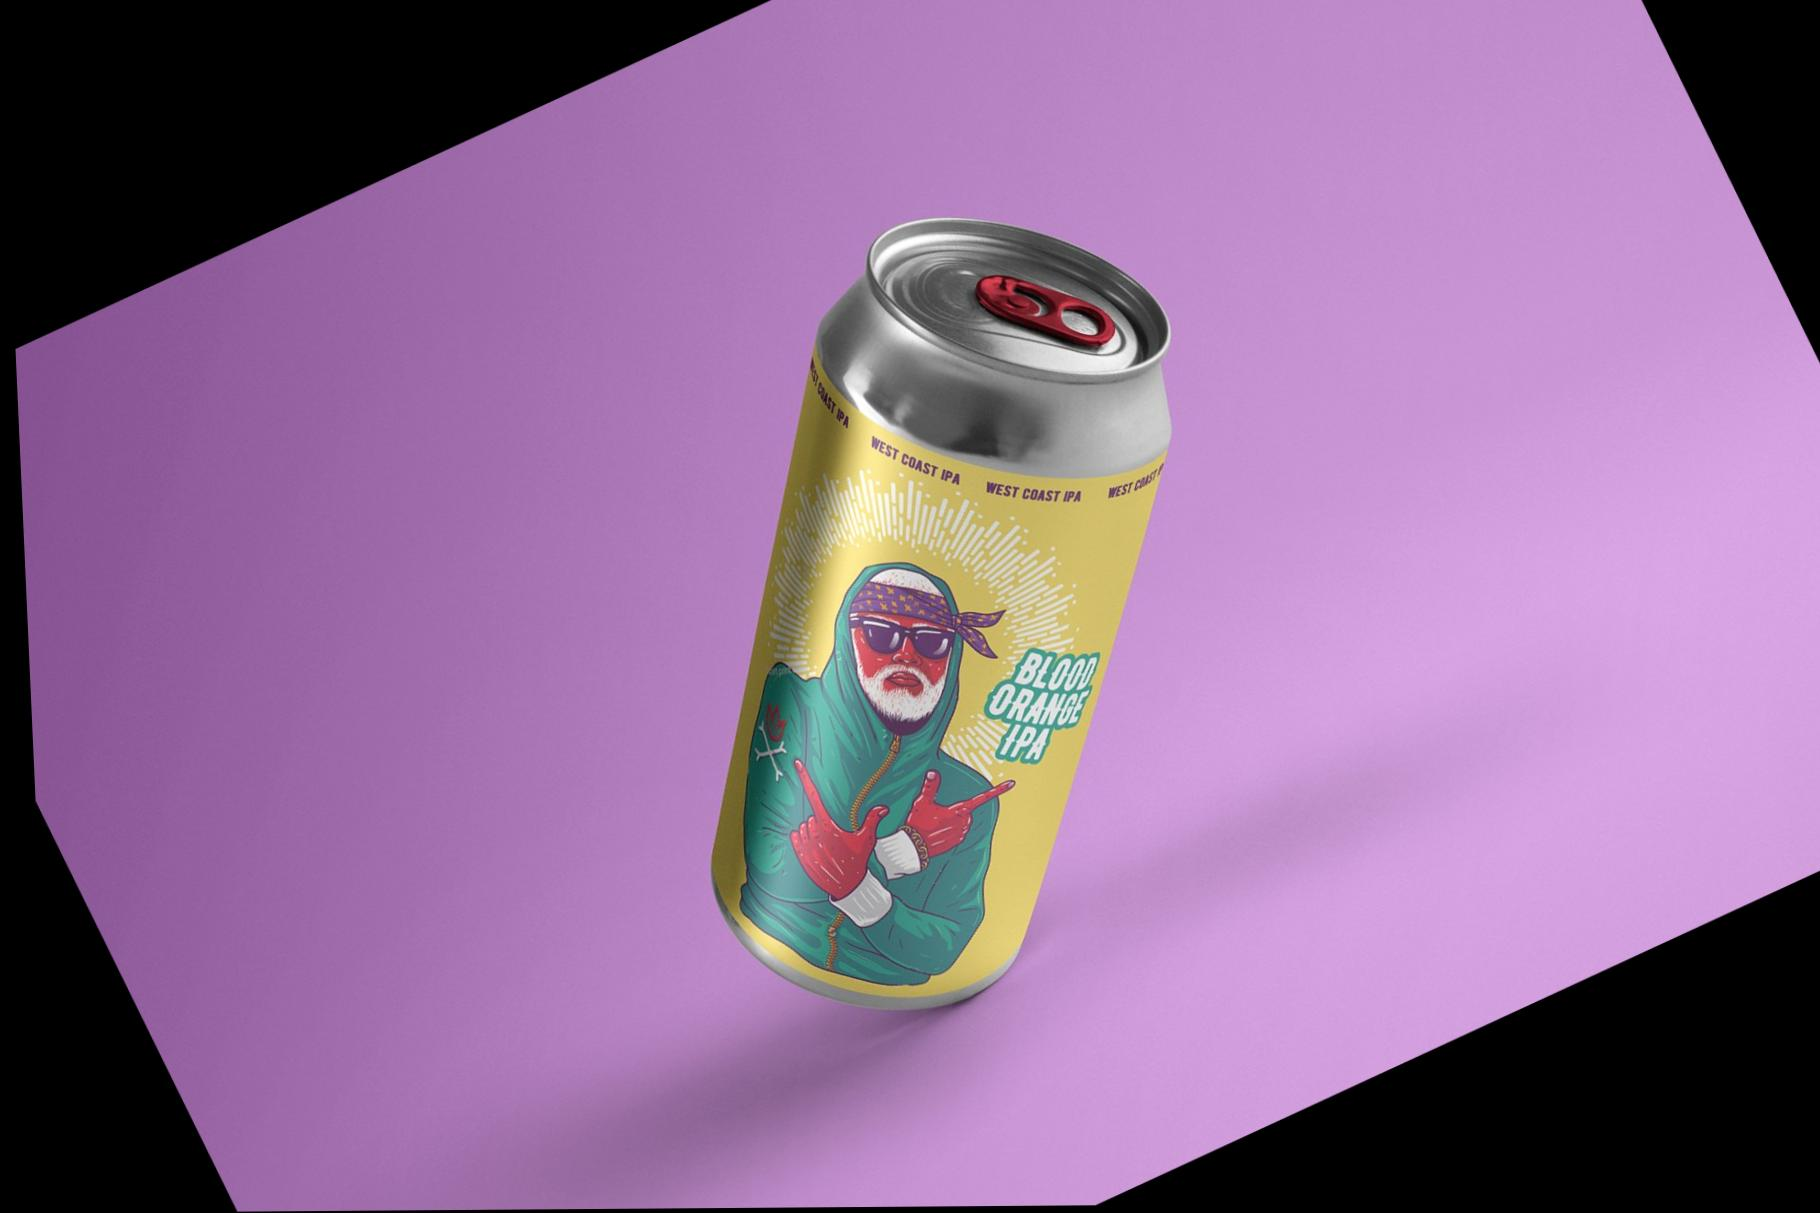metal: (710, 217, 1170, 1009)
